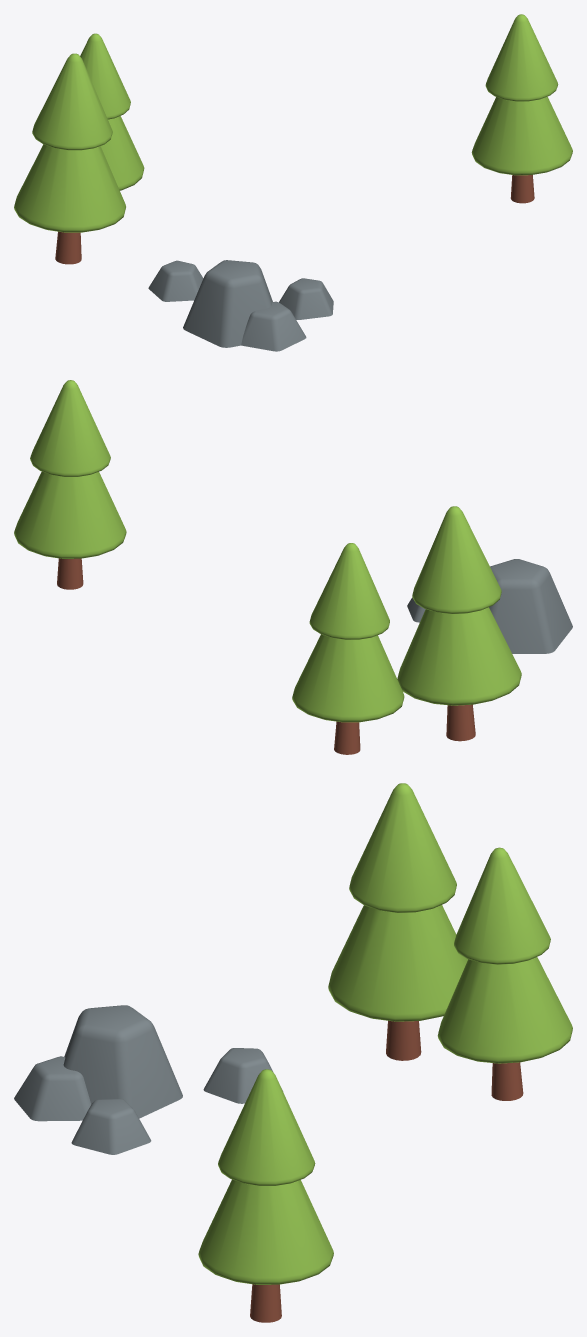
File: three_rocks.gltf
3 renders of one model, top to bottom at view 1: azimuth 30°, elevation 25°; view 2: azimuth 150°, elevation 25°; view 3: azimuth 270°, elevation 25°, orthographic. The views are drawn at different scales.
Visible parts, largest first — view 1: detail_forestB.001; view 2: detail_forestB.001; view 3: detail_forestB.001.
Boxes of the visible parts, box(x1,y1,x2,y2) form: detail_forestB.001: box(14, 14, 572, 351); detail_forestB.001: box(14, 380, 572, 754); detail_forestB.001: box(14, 783, 572, 1322).
Size of the model in its own units: 0.3707 by 0.1478 by 0.2719.
